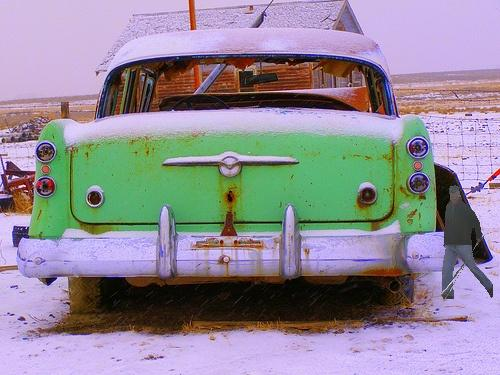tampered: (442, 186, 493, 299)
